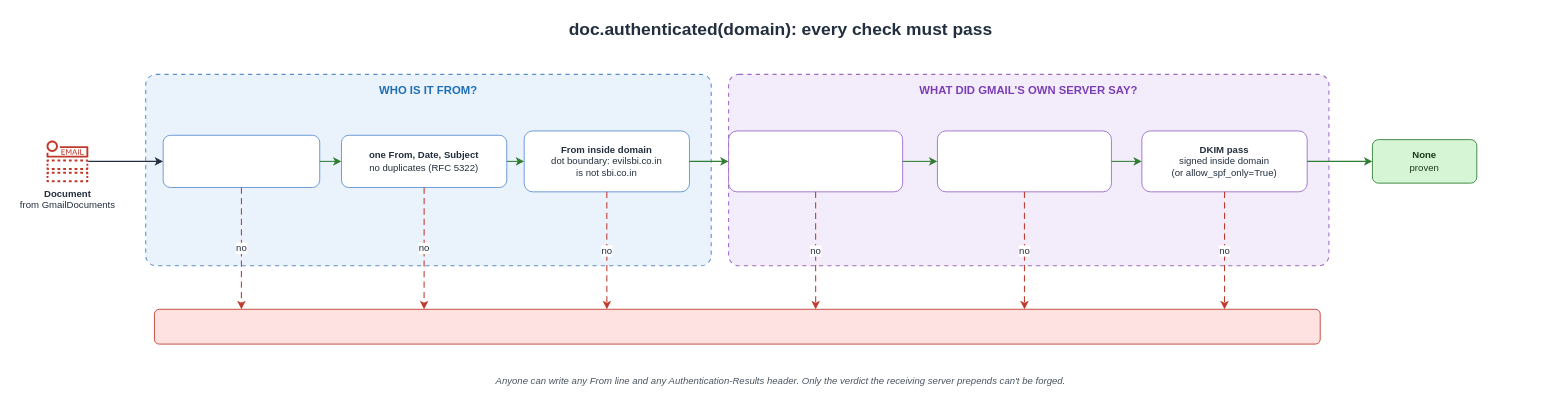
This 1561x405 diagram has some shape labels left out. Here are the shapes that lost their labels. From the top down, the centre of each, then its label:
pixel 241 160: received mail not SENT or DRAFT
pixel 815 161: the topmost verdict from mx.google.com, RFC 8601 parsed, comments stripped
pixel 1024 161: DMARC pass header.from aligned with From and inside domain
pixel 737 326: REFUSE: return the reason · a header it can't parse fails closed
